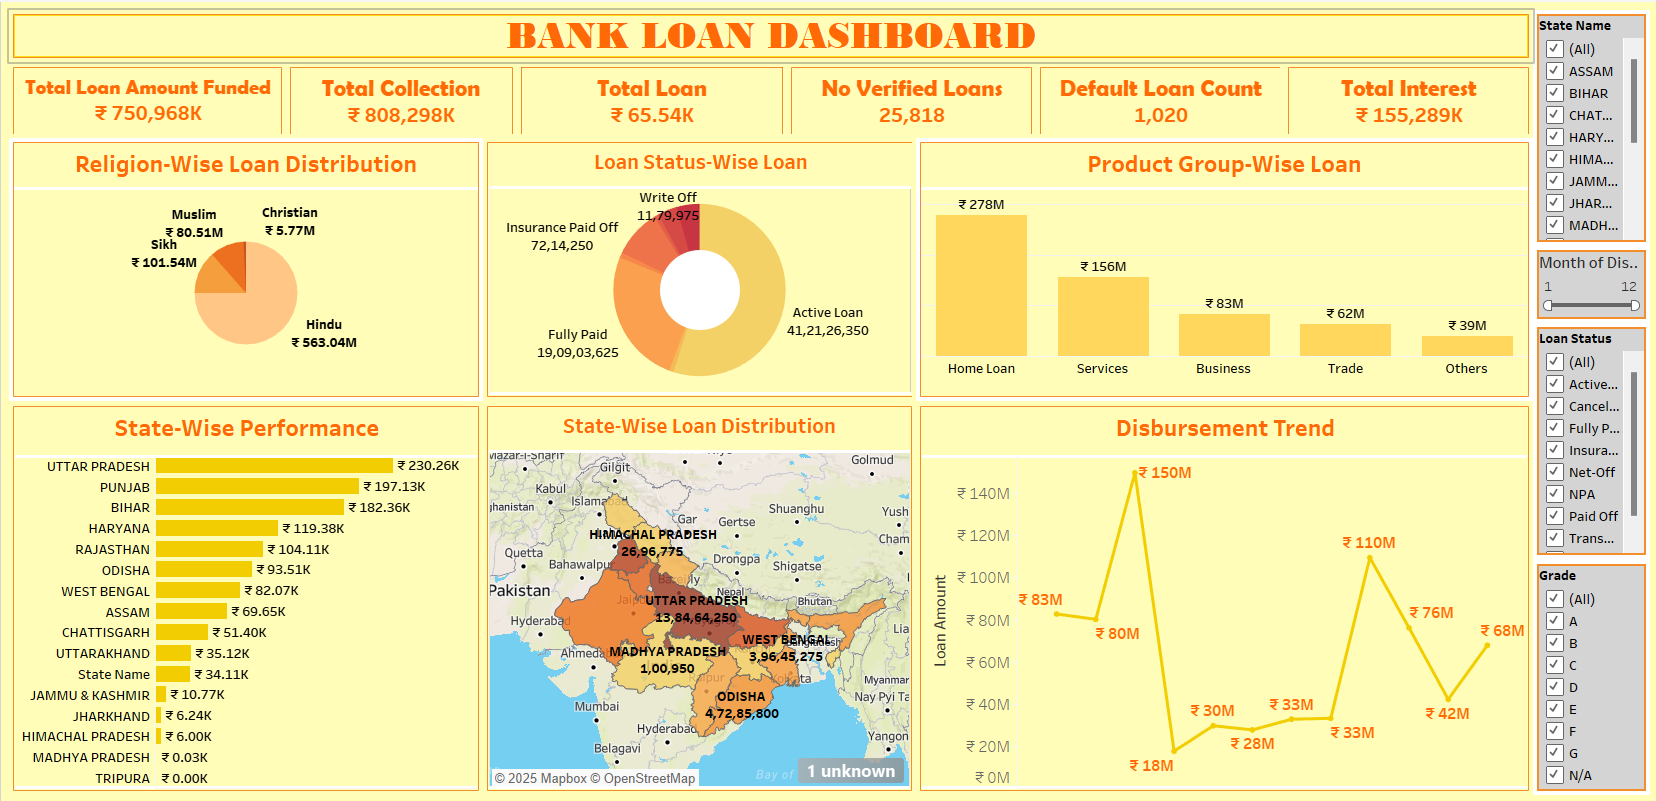

What the dashboard file says about the page in this screenshot:
{"tool":"tableau","page":{"name":"Dashboard 1","canvas":[1000,1000],"units":"permille","ordinal":0},"visuals":[{"type":"title","box":[4.8,10,919.7,64.9]},{"type":"filter","title":"State-Wise Performance","param":"[federated.1kfujmh1aarebc15erkji1qe8vi7].[none:State_Name:nk]","box":[924.6,10,70.6,295.2]},{"type":"worksheet","title":"Total loan amount funded","mark":"Text","box":[4.8,75.8,167.2,94.5]},{"type":"worksheet","title":"Total Collection","mark":"Automatic","box":[172,75.8,139.4,94.5]},{"type":"worksheet","title":"Total Loans","mark":"Automatic","box":[311.4,75.8,163,94.5]},{"type":"worksheet","title":"No Verified Loans","mark":"Automatic","box":[474.4,75.8,150.1,94.5]},{"type":"worksheet","title":"Default Loan Count","mark":"Automatic","box":[624.4,75.8,150.1,94.5]},{"type":"worksheet","title":"Total Interest","mark":"Automatic","box":[774.5,75.8,150.1,94.5]},{"type":"worksheet","title":"Religion-Wise Loan Distribution","mark":"Pie","box":[4.8,170.3,285.8,328.5]},{"type":"worksheet","title":"Loan Status-Wise Loan","mark":"Circle","rows":["Calculation_873416870375927813","Calculation_873416870375940103"],"box":[290.6,170.3,261.6,328.5]},{"type":"worksheet","title":"Product Group-Wise Loan","mark":"Bar","rows":["Loan_Amount"],"cols":["Purpose_Category"],"box":[552.2,170.3,372.3,328.5]},{"type":"filter","title":"Disbursement Trend","param":"[federated.1kfujmh1aarebc15erkji1qe8vi7].[mn:Disbursement_Date:qk]","box":[924.6,305.2,70.6,96.1]},{"type":"filter","title":"Loan Status-Wise Loan","param":"[federated.1kfujmh1aarebc15erkji1qe8vi7].[none:Loan_Status:nk]","box":[924.6,401.4,70.6,295.2]},{"type":"worksheet","title":"State-Wise Performance","mark":"Automatic","rows":["State_Name"],"cols":["Total_Fees"],"box":[4.8,498.8,285.8,491.2]},{"type":"worksheet","title":"State-Wise Loan Distribution","mark":"Automatic","box":[290.6,498.8,261.6,491.2]},{"type":"worksheet","title":"Disbursement Trend","mark":"Automatic","rows":["Loan_Amount"],"cols":["Disbursement_Date"],"box":[552.2,498.8,372.4,491.2]},{"type":"filter","title":"State-Wise Performance","param":"[federated.1kfujmh1aarebc15erkji1qe8vi7].[none:Grade:nk]","box":[924.6,696.6,70.6,293.4]}]}

Visuals, with their boxes on the dashboard's canvas, which has no fixed pixel size, in thousandths of its width and height (x1, y1, x2, y2). These are canvas units, not pixel positions in the 1656x801 screenshot, which may show the page scaled, cropped or inside an application window:
title: <box>5,10,924,75</box>
"State-Wise Performance" filter: <box>925,10,995,305</box>
"Total loan amount funded" worksheet (Text marks): <box>5,76,172,170</box>
"Total Collection" worksheet: <box>172,76,311,170</box>
"Total Loans" worksheet: <box>311,76,474,170</box>
"No Verified Loans" worksheet: <box>474,76,624,170</box>
"Default Loan Count" worksheet: <box>624,76,774,170</box>
"Total Interest" worksheet: <box>774,76,925,170</box>
"Religion-Wise Loan Distribution" worksheet (Pie marks): <box>5,170,291,499</box>
"Loan Status-Wise Loan" worksheet (Circle marks): <box>291,170,552,499</box>
"Product Group-Wise Loan" worksheet (Bar marks): <box>552,170,924,499</box>
"Disbursement Trend" filter: <box>925,305,995,401</box>
"Loan Status-Wise Loan" filter: <box>925,401,995,697</box>
"State-Wise Performance" worksheet: <box>5,499,291,990</box>
"State-Wise Loan Distribution" worksheet: <box>291,499,552,990</box>
"Disbursement Trend" worksheet: <box>552,499,925,990</box>
"State-Wise Performance" filter: <box>925,697,995,990</box>
